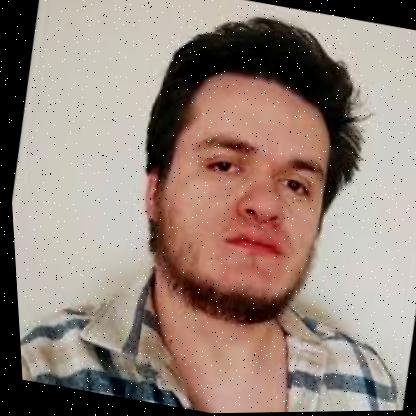person: (103, 0, 398, 333)
